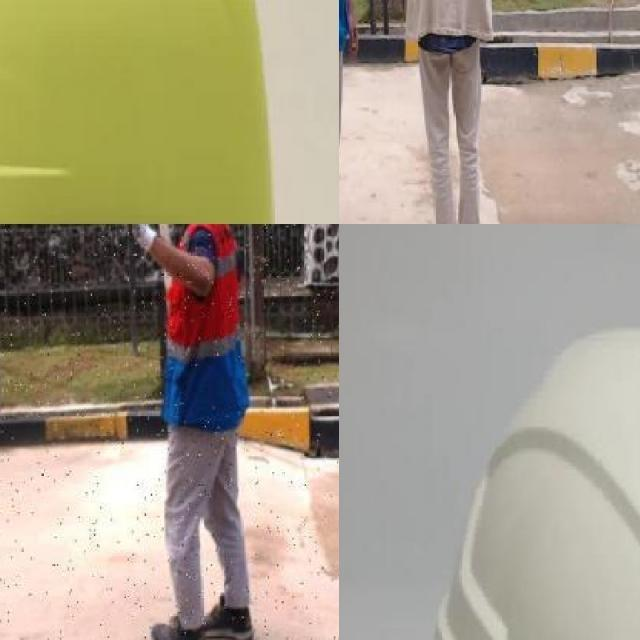apron: (118, 224, 155, 254)
